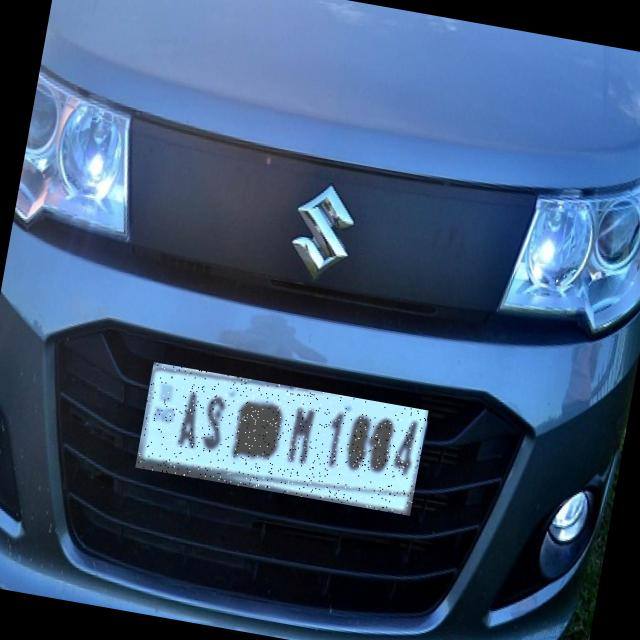Plate: (136, 363, 429, 517)
